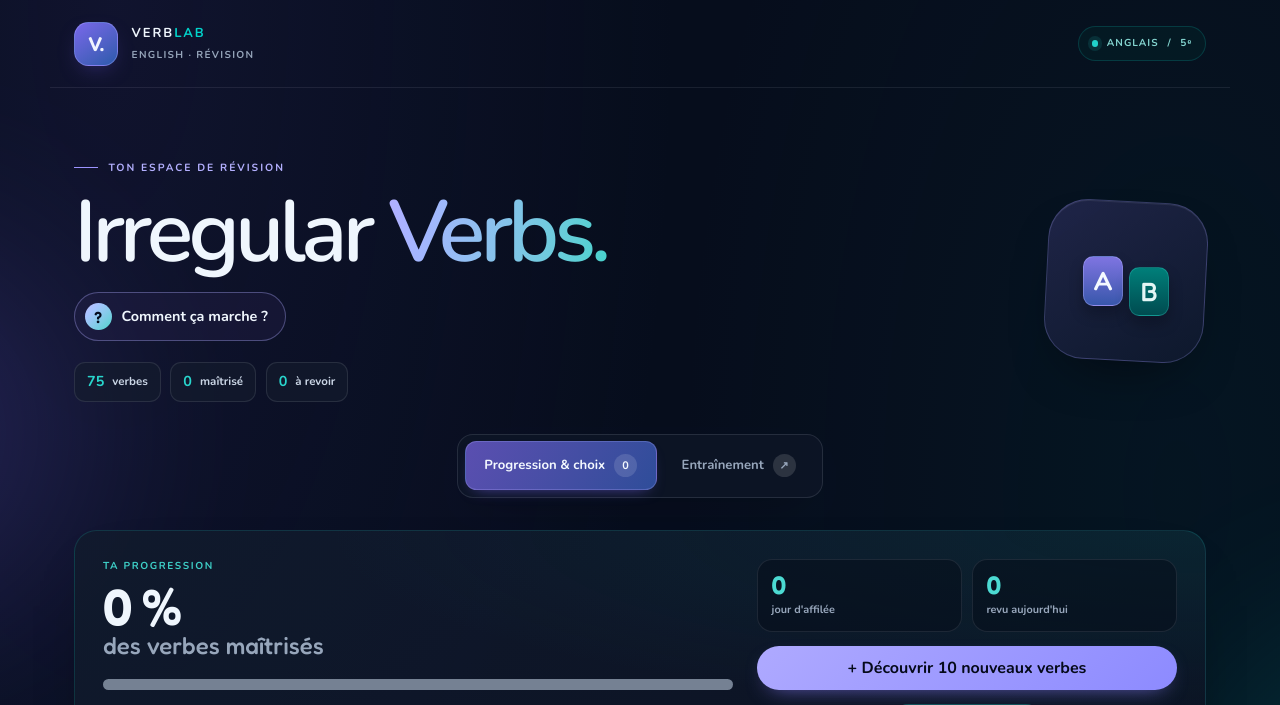
it: VerbApp › affiche la progression et lance une session de découverte
Expected: the text "TA PROGRESSION" is shown, [103, 559, 214, 573]
Click the button "+ Découvrir 10 nouveaux verbes". click: (967, 668)
box: [757, 646, 1177, 690]
(page scrolled)
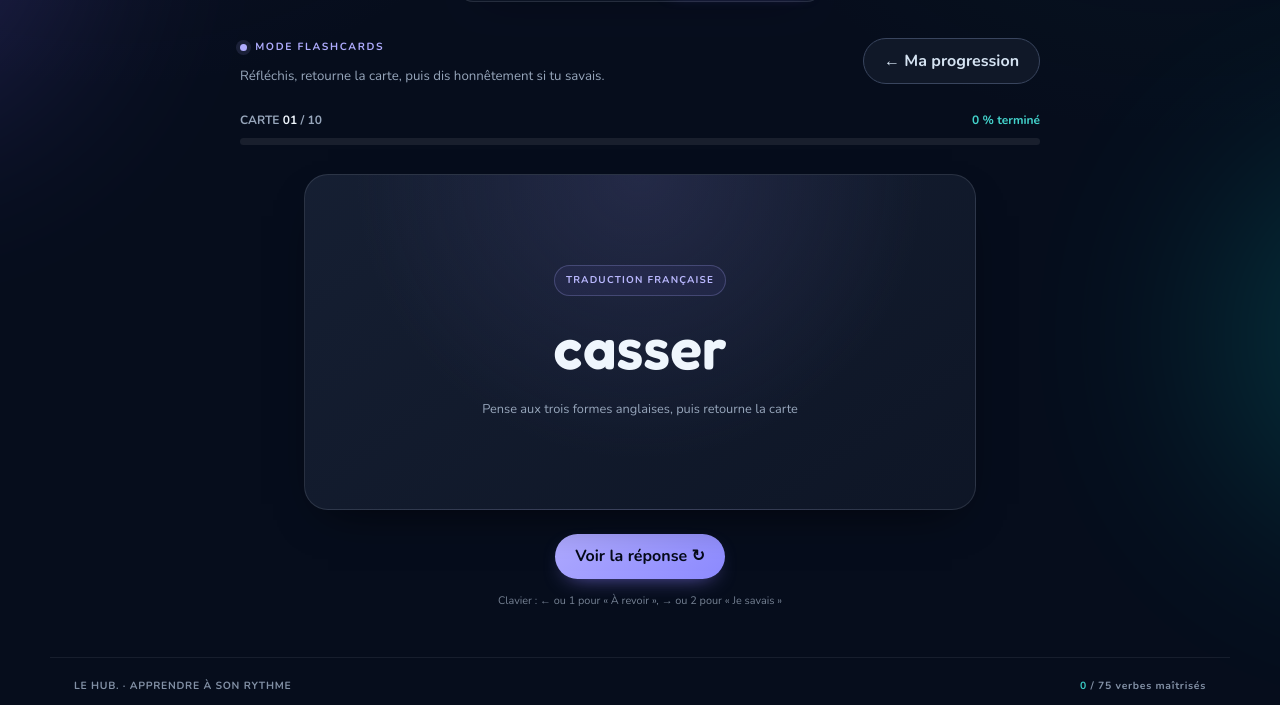
Expected: the text "MODE FLASHCARDS" is shown, [240, 40, 384, 55]
Click the button "Voir la réponse ↻". click: (640, 556)
box: [555, 534, 725, 579]
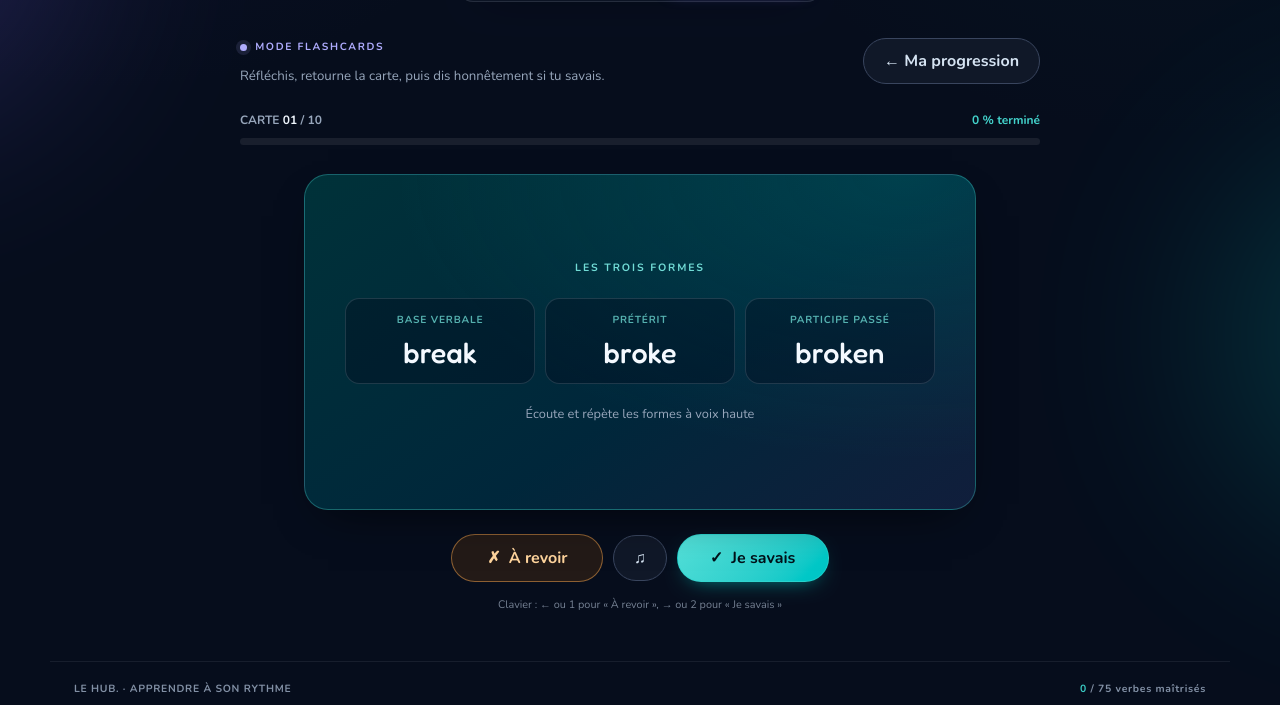
Click the button "✓ Je savais". click: (753, 558)
box: [677, 534, 829, 582]
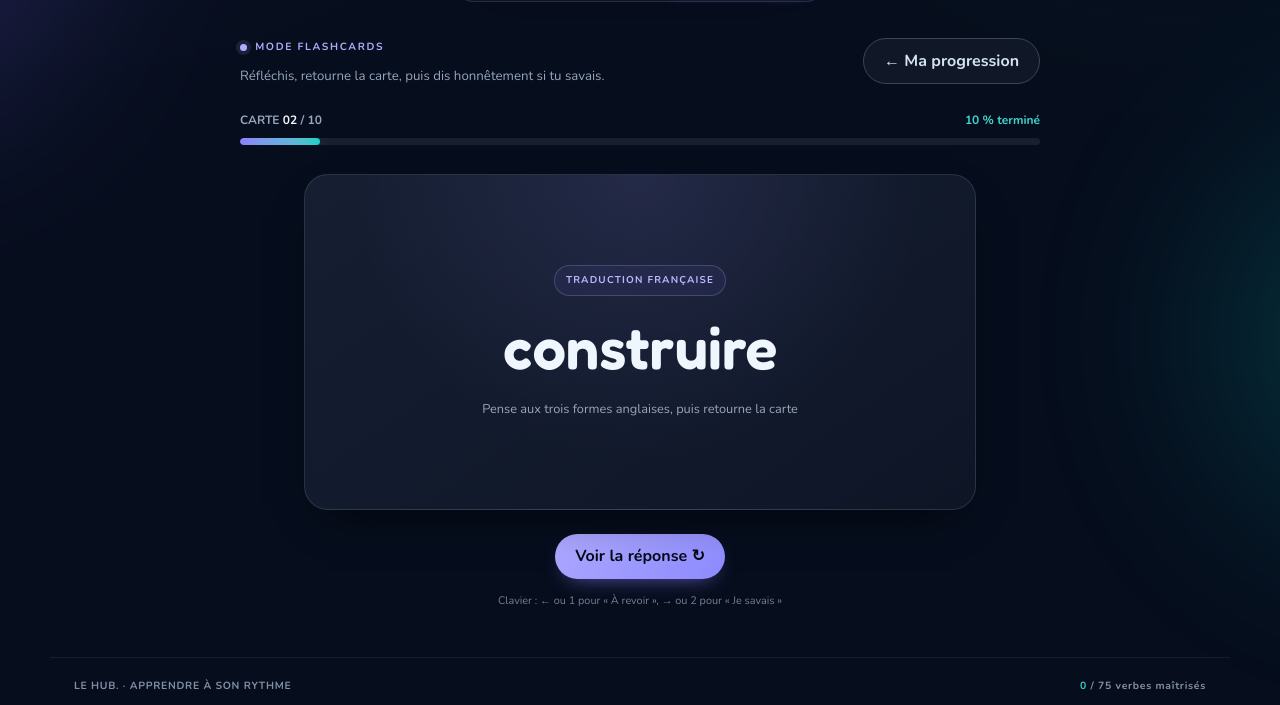
Expected: the text "CARTE 02 / 10" is shown, [240, 111, 322, 129]
